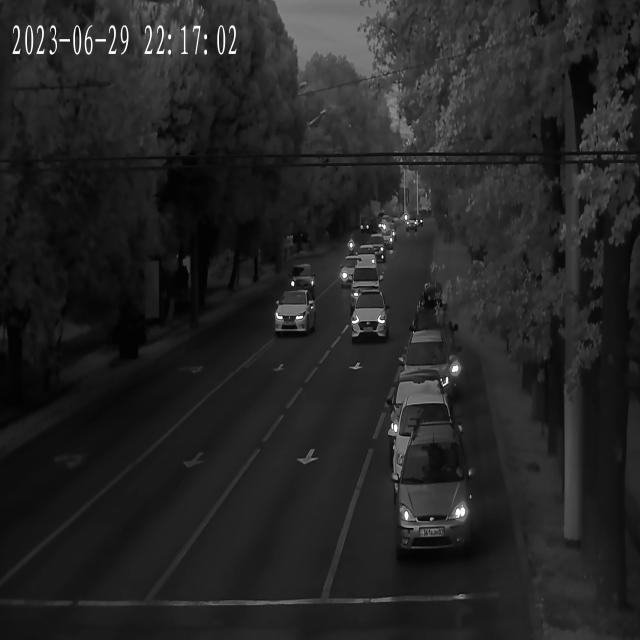Car: (393, 426, 477, 562), (391, 392, 466, 478), (396, 334, 453, 401), (380, 377, 448, 431), (271, 289, 318, 335), (349, 289, 387, 342), (348, 265, 384, 306), (338, 258, 374, 292), (288, 264, 316, 294), (354, 244, 383, 267), (363, 238, 390, 260)
